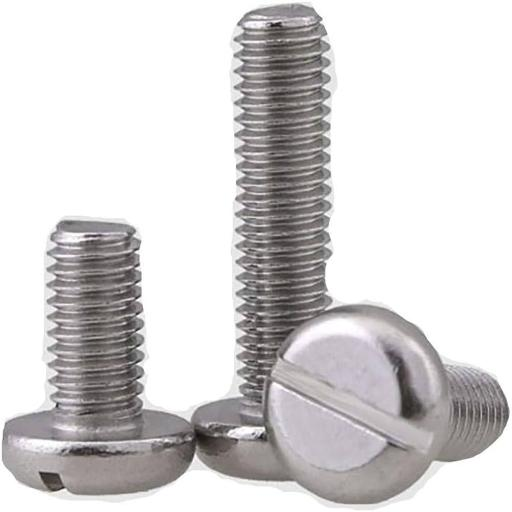Slotted: (272, 302, 439, 503)
